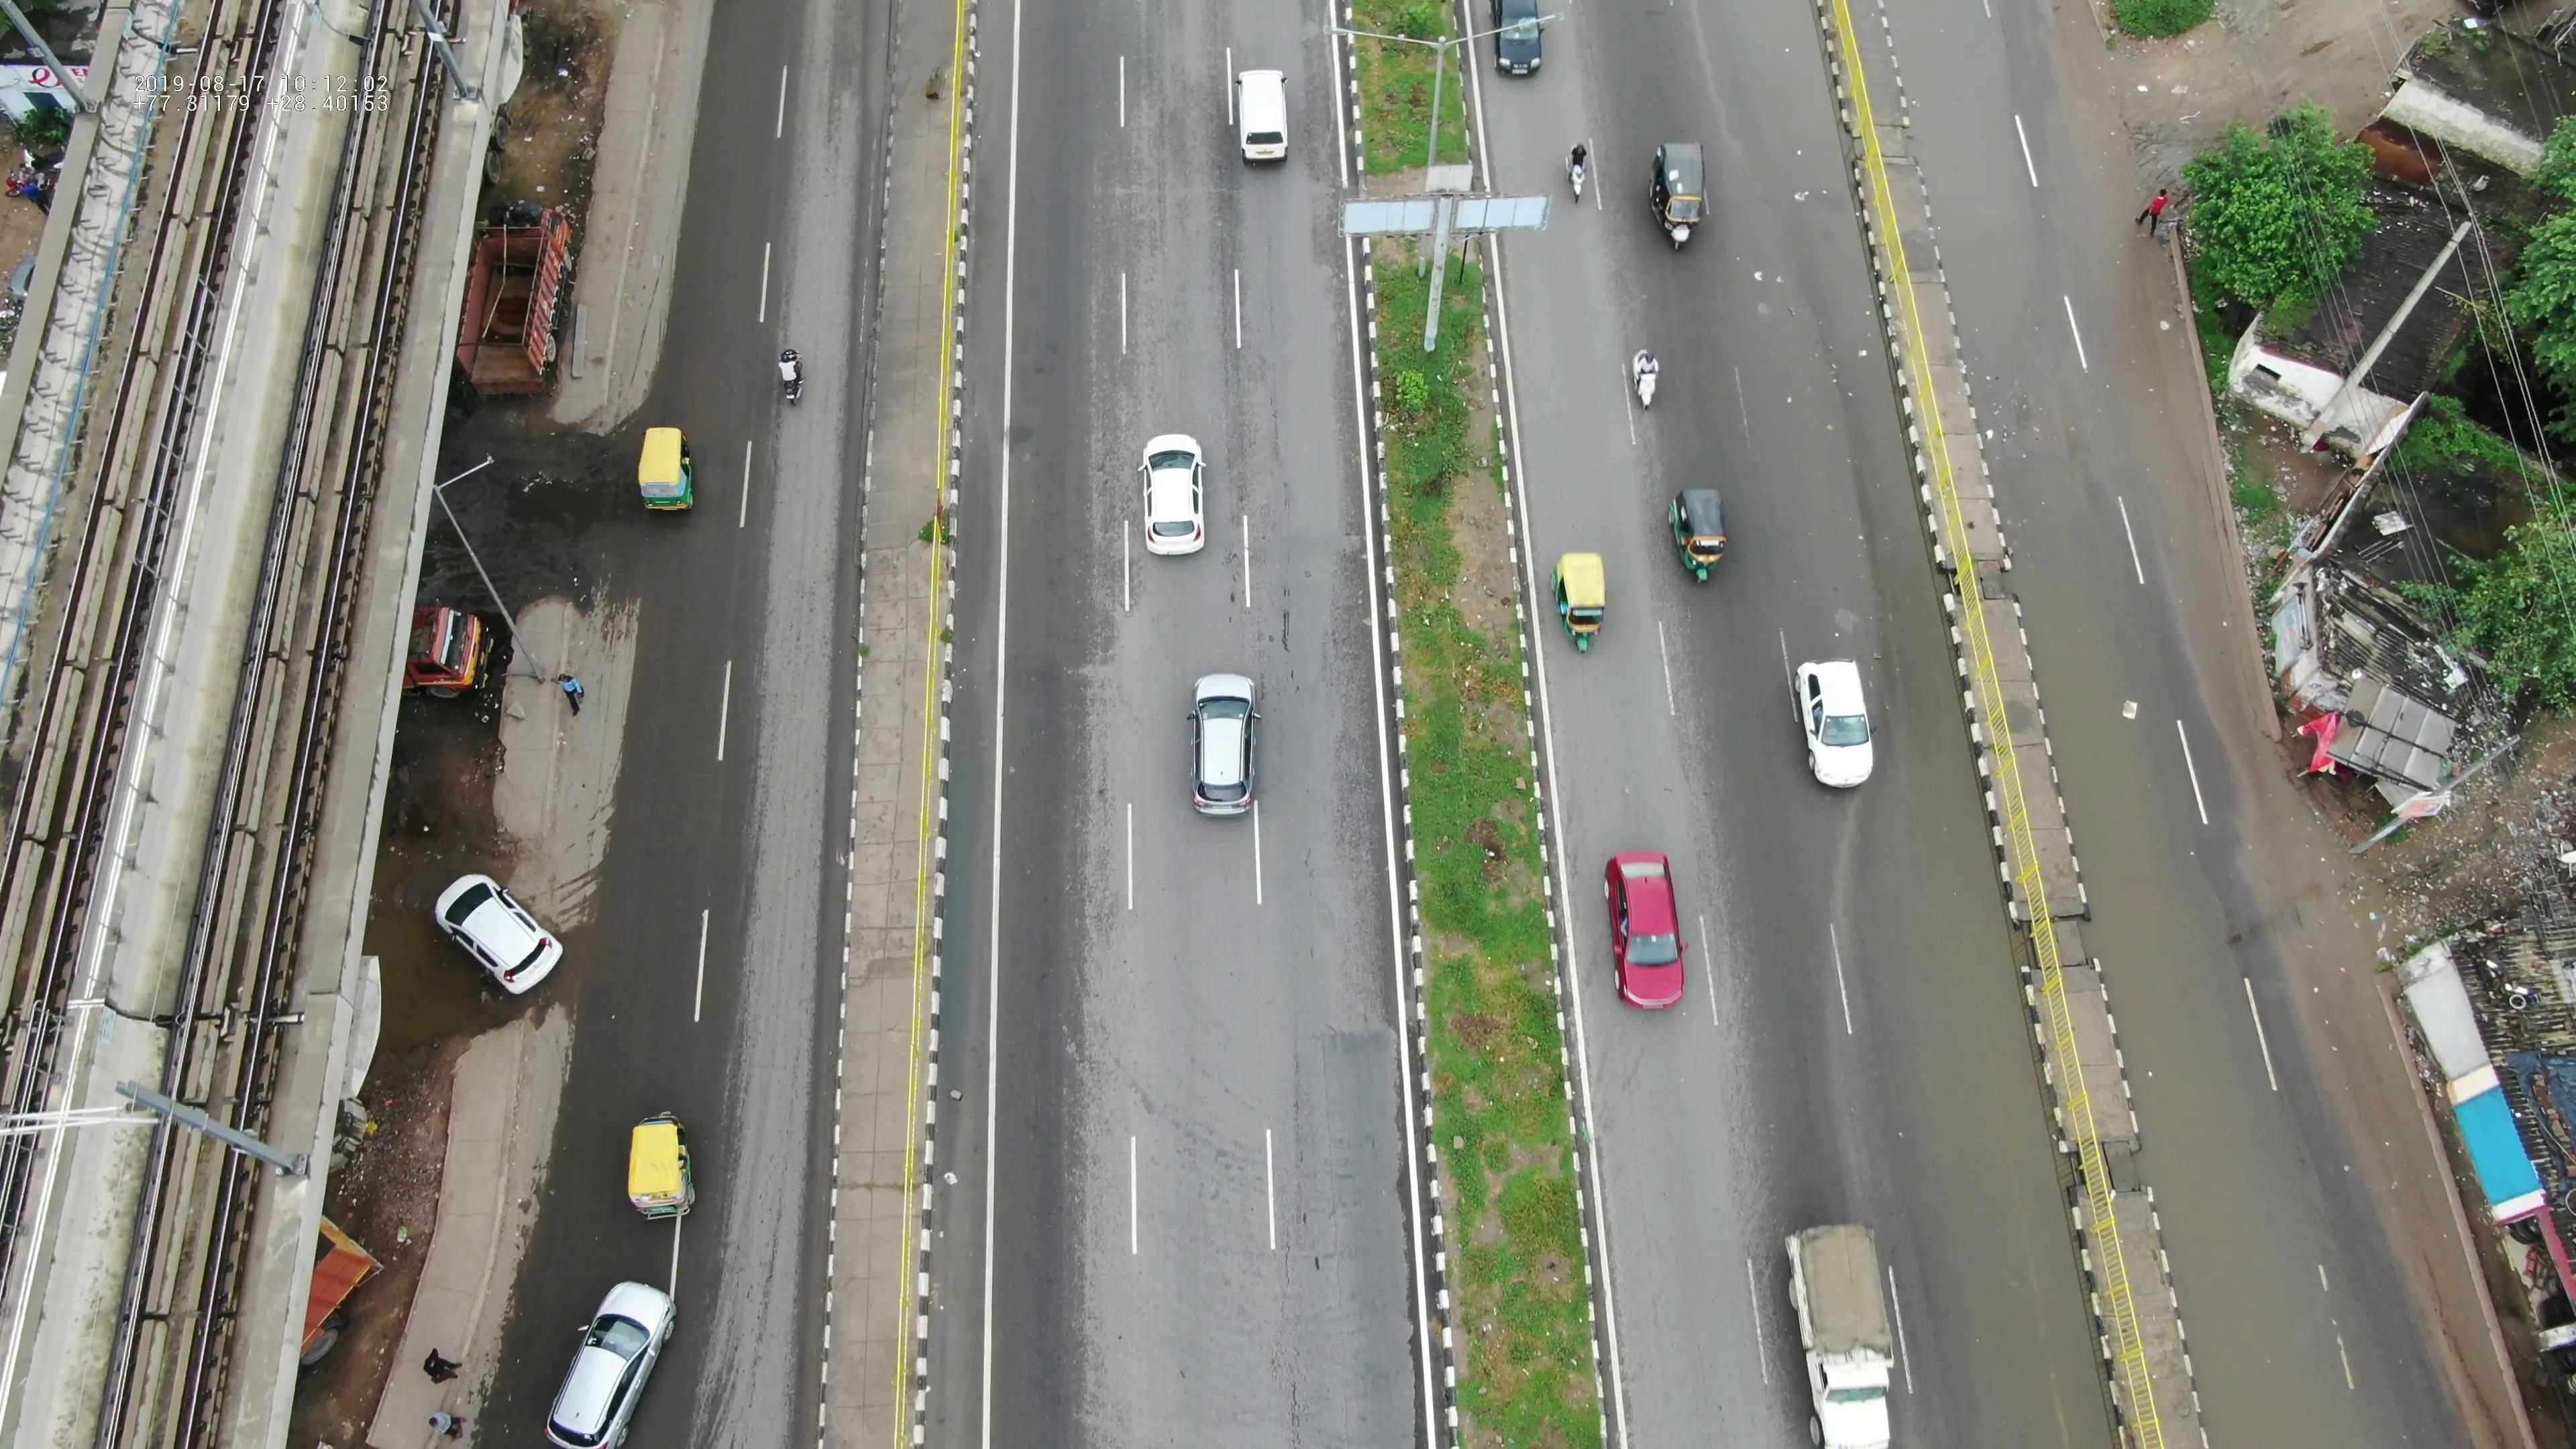Waterlogging: (2020, 580, 2194, 961), (1897, 699, 2068, 1079)
